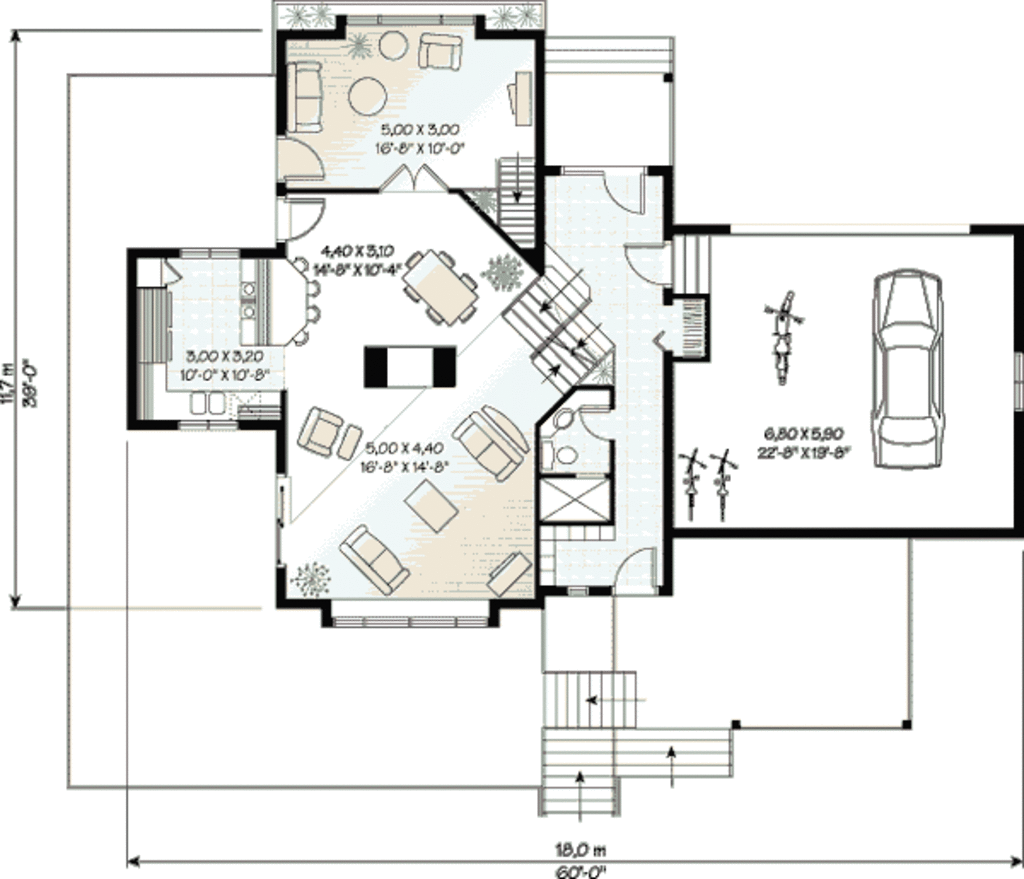dining_table: (398, 247, 483, 331)
door: (612, 545, 664, 599), (598, 164, 651, 216), (625, 239, 677, 288), (284, 194, 329, 242), (575, 400, 615, 448)
kitchen_bar: (264, 255, 328, 353)
large_sink: (533, 440, 579, 475)
large_sofa: (449, 408, 523, 483), (336, 523, 412, 595), (276, 60, 327, 136)
small_sofa: (411, 32, 468, 77), (296, 406, 340, 460)
stairs: (537, 664, 745, 819), (502, 270, 612, 394)
windows: (329, 611, 491, 633)
